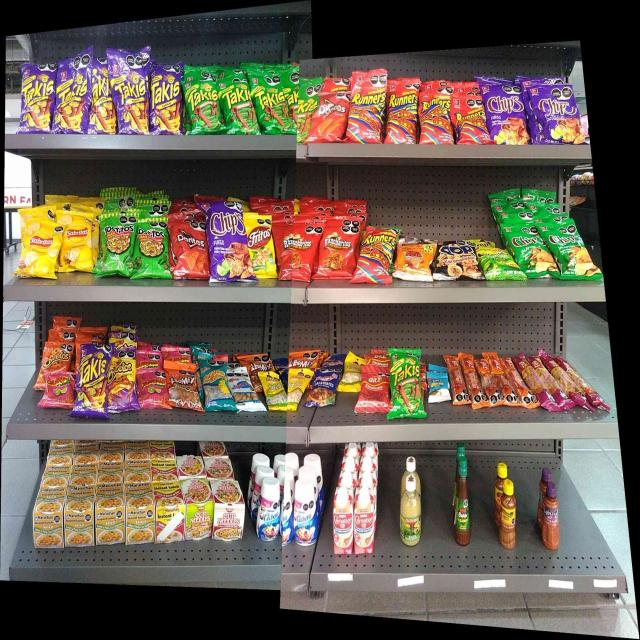bitzAlmendras: (427, 370, 449, 402)
bitzEnchilado90: (363, 365, 388, 414)
bitzEnchilado95: (451, 355, 514, 407)
bitzHabanero: (528, 355, 590, 410)
bokadosCacahuates: (310, 365, 336, 405)
botaneraChilito: (498, 479, 516, 548)
cheetosFlaminHot: (110, 347, 136, 412)
cheetosOriginal: (43, 339, 71, 367)
chipsFuego: (532, 86, 578, 146), (209, 201, 243, 282), (488, 88, 526, 144)
chipsJalapeno: (515, 226, 549, 275), (554, 226, 580, 280)
chipsPapatinas: (477, 241, 506, 279)
churrumais: (42, 371, 72, 406), (139, 368, 166, 406)
delPrimoSalsa: (398, 476, 420, 546)
doritosNacho: (172, 220, 206, 280), (313, 94, 344, 141)
fritosLimon: (245, 214, 273, 278)
hotNutsOriginal: (397, 236, 430, 283)
leoCacahuates: (230, 370, 253, 412)
leoMix: (170, 364, 198, 408)
maruchanPollo: (32, 486, 64, 549), (96, 484, 125, 544), (66, 486, 94, 546), (127, 484, 155, 544)
maruchanRes: (158, 482, 182, 542)
nestleCarnation: (333, 486, 353, 556), (356, 488, 373, 554)
nestleLechera: (293, 481, 317, 544), (257, 479, 279, 542)
nissinCamaron: (185, 477, 211, 540)
nissinRes: (214, 479, 243, 541)
popKarameladas: (436, 241, 474, 282)
rancheritos: (277, 220, 312, 280), (322, 226, 352, 283)
runners: (350, 70, 383, 145), (386, 80, 416, 146), (419, 90, 450, 146), (361, 228, 392, 284), (452, 93, 483, 146)
sabritasOriginal: (21, 218, 55, 277), (61, 212, 91, 272)
salsaBufalo: (454, 458, 470, 544)
semillasCalabaza: (260, 371, 290, 411), (342, 352, 359, 390)
semillasGirasol: (201, 353, 228, 410)
tajinDulce: (543, 486, 559, 548)
takisFuego: (116, 52, 148, 134), (151, 66, 183, 138), (22, 63, 54, 132), (57, 61, 88, 132), (79, 345, 105, 414), (94, 59, 112, 136)
takisOriginal: (256, 75, 292, 135), (391, 348, 419, 418), (220, 78, 250, 137), (186, 78, 218, 132)
tostitos: (100, 215, 130, 277), (135, 220, 166, 277)
